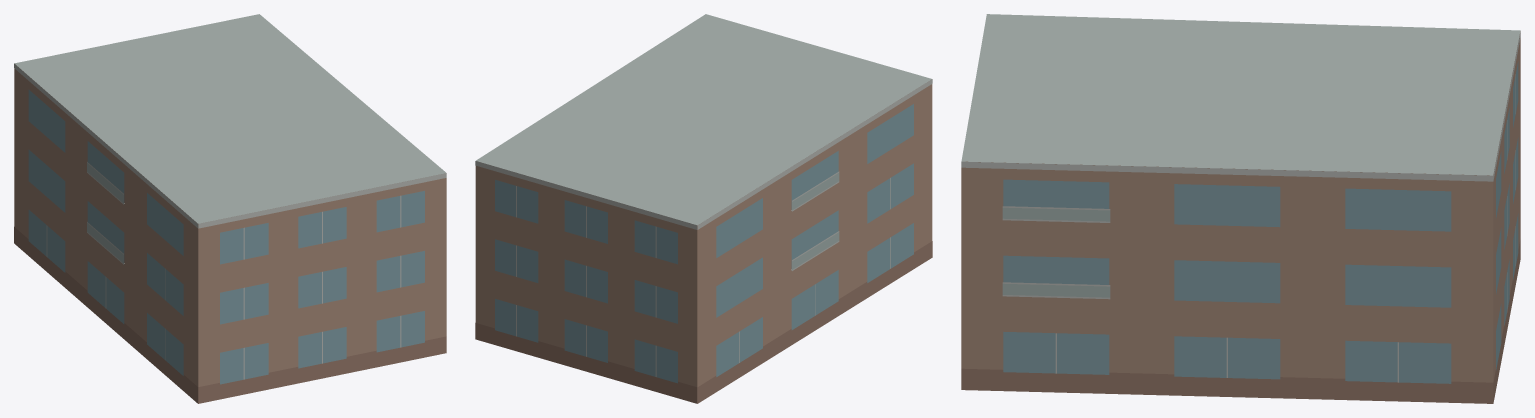
The model's file is survey-upis-32873146.glb.
The picture shows the model from 3 angles, left to right: view 1: azimuth 30°, elevation 25°; view 2: azimuth 150°, elevation 25°; view 3: azimuth 270°, elevation 25°; orthographic projection. The views are drawn at different scales.
Parts seen in each view (by area): view 1: survey-upis-32873146.tmp; view 2: survey-upis-32873146.tmp; view 3: survey-upis-32873146.tmp.
Boxes of the visible parts, <box> form: survey-upis-32873146.tmp: <box>14,14,446,403</box>; survey-upis-32873146.tmp: <box>475,14,932,403</box>; survey-upis-32873146.tmp: <box>961,14,1520,403</box>.
Bounding box in the file's own units: 13.89 × 9.15 × 20.32.
